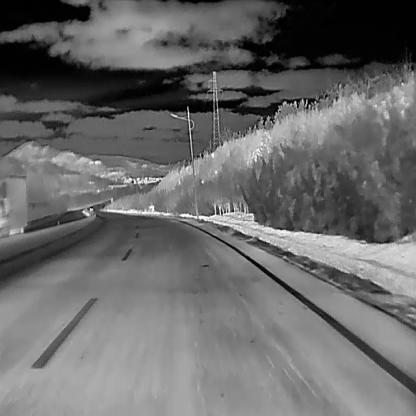car: (89, 205, 94, 210)
truck: (0, 173, 26, 232)
